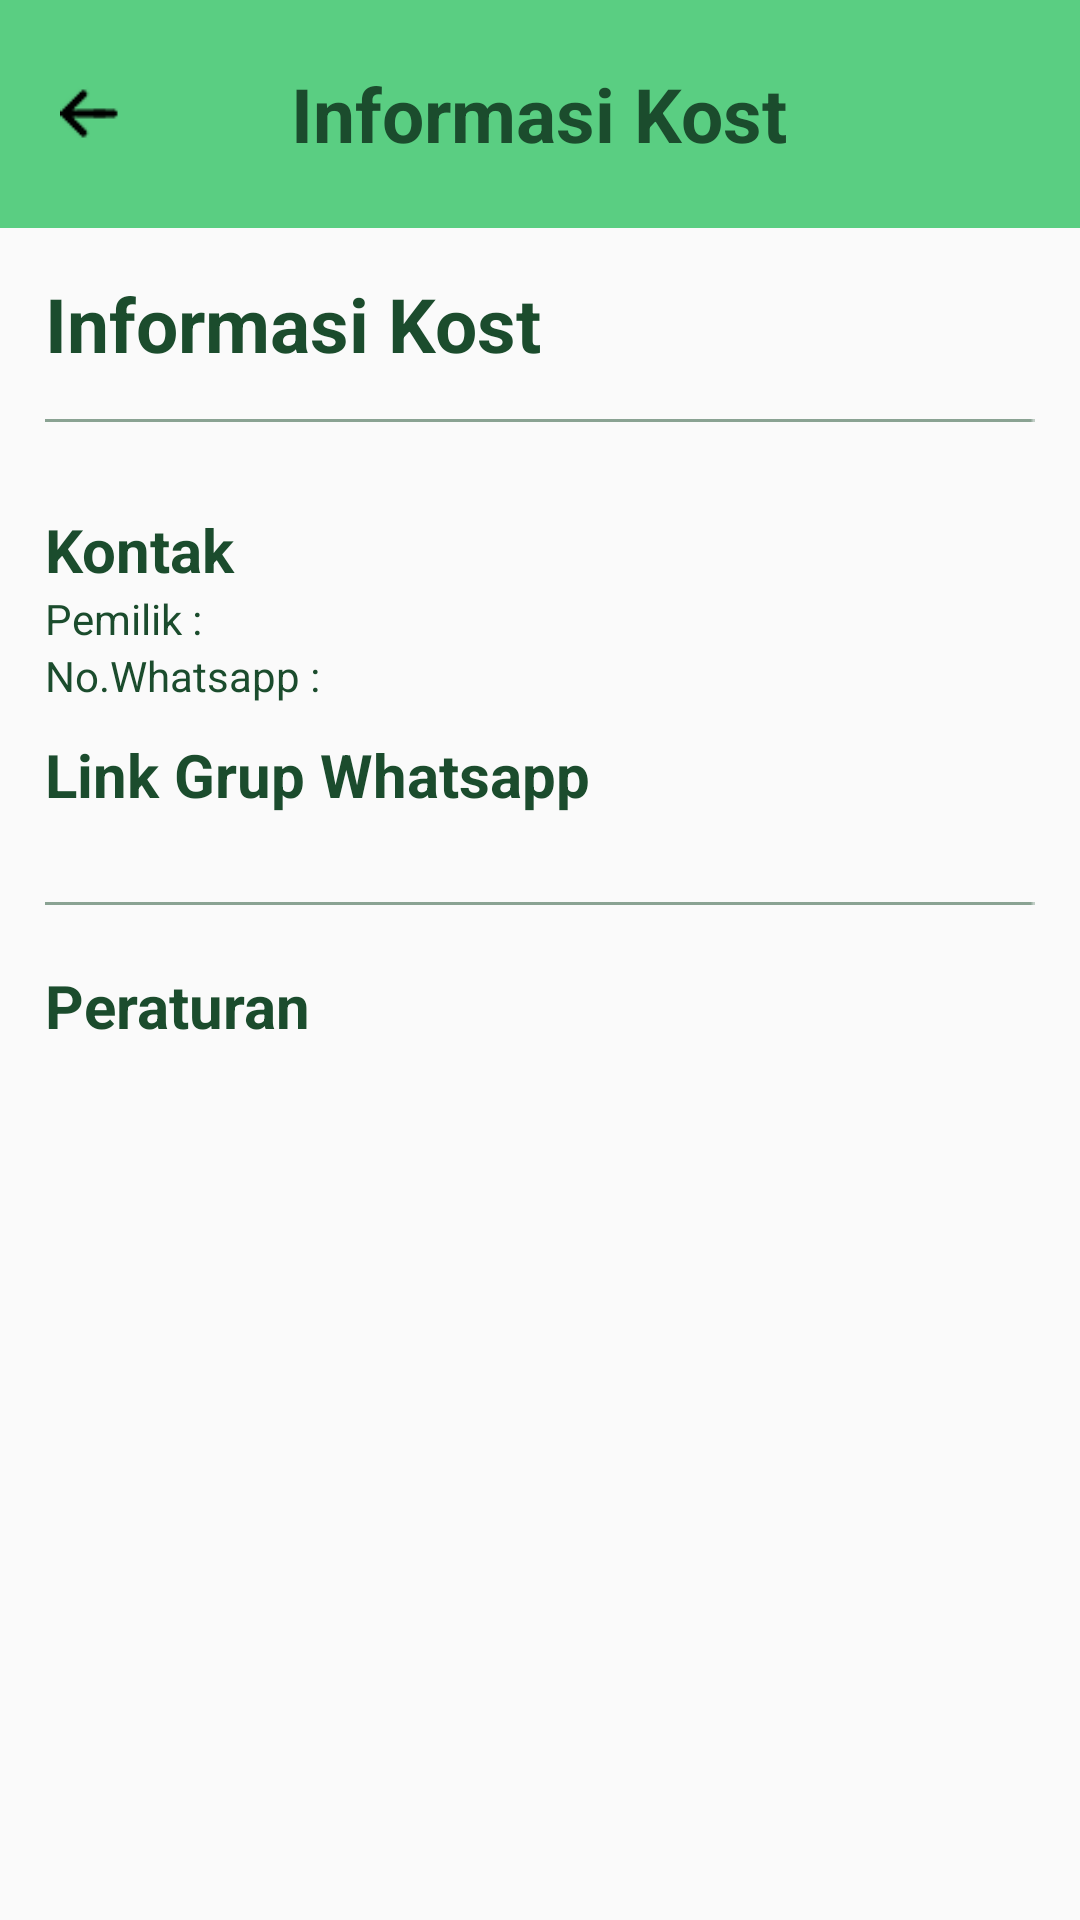

Where to tap for icons on this 1080x1920 app screen, as point (x, y):
back: point (89, 113)
